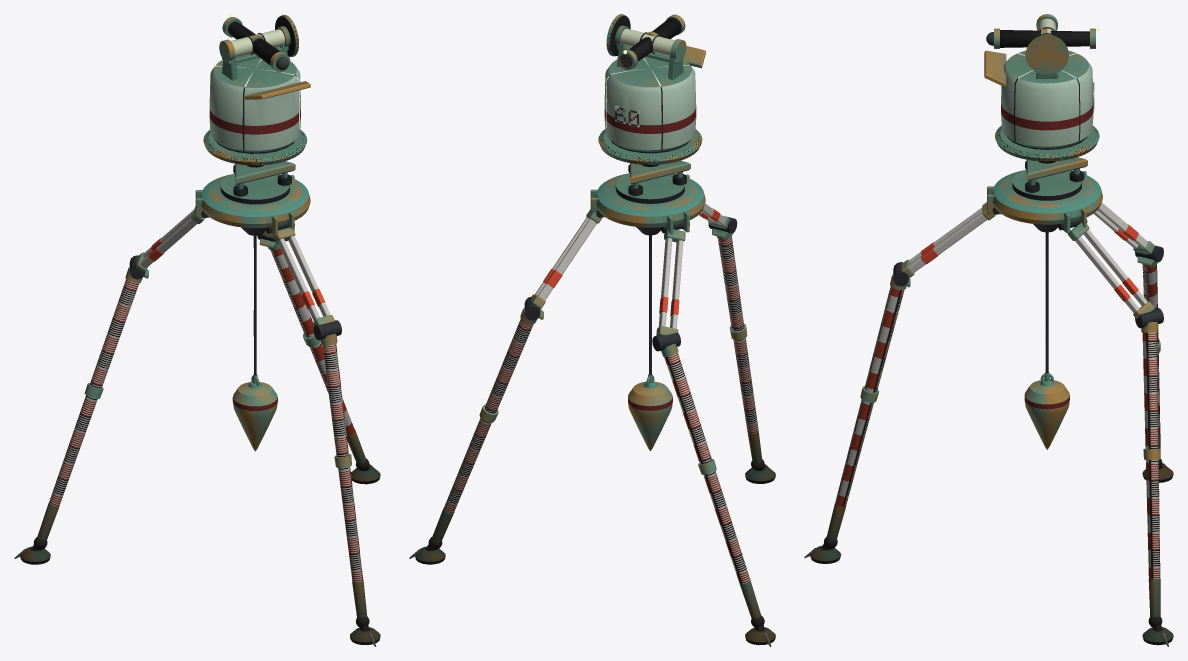
The model's file is plumb.glb.
3 renders of one model, left to right at view 1: azimuth 30°, elevation 25°; view 2: azimuth 150°, elevation 25°; view 3: azimuth 270°, elevation 25°, orthographic.
Visible parts, largest first — view 1: plumb-hull, plumb-bob; view 2: plumb-hull, plumb-bob; view 3: plumb-hull, plumb-bob.
Boxes of the visible parts, x1,y1,x2,y2 form: plumb-hull: (14, 14, 380, 646); plumb-bob: (232, 381, 277, 451); plumb-hull: (409, 14, 775, 646); plumb-bob: (628, 381, 672, 451); plumb-hull: (804, 14, 1173, 646); plumb-bob: (1024, 379, 1069, 449).
Bounding box in the file's own units: 2.41 × 3.41 × 2.12.
Materials: 2 (1 with a texture image).
